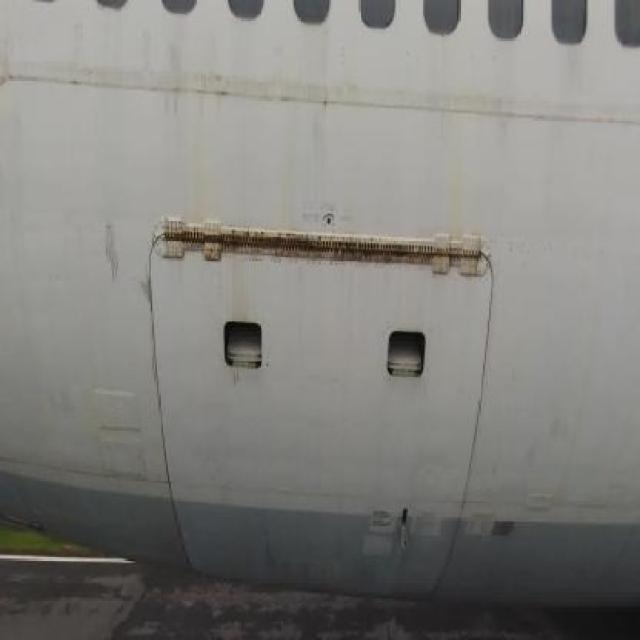Scartch: (200, 121, 352, 239)
